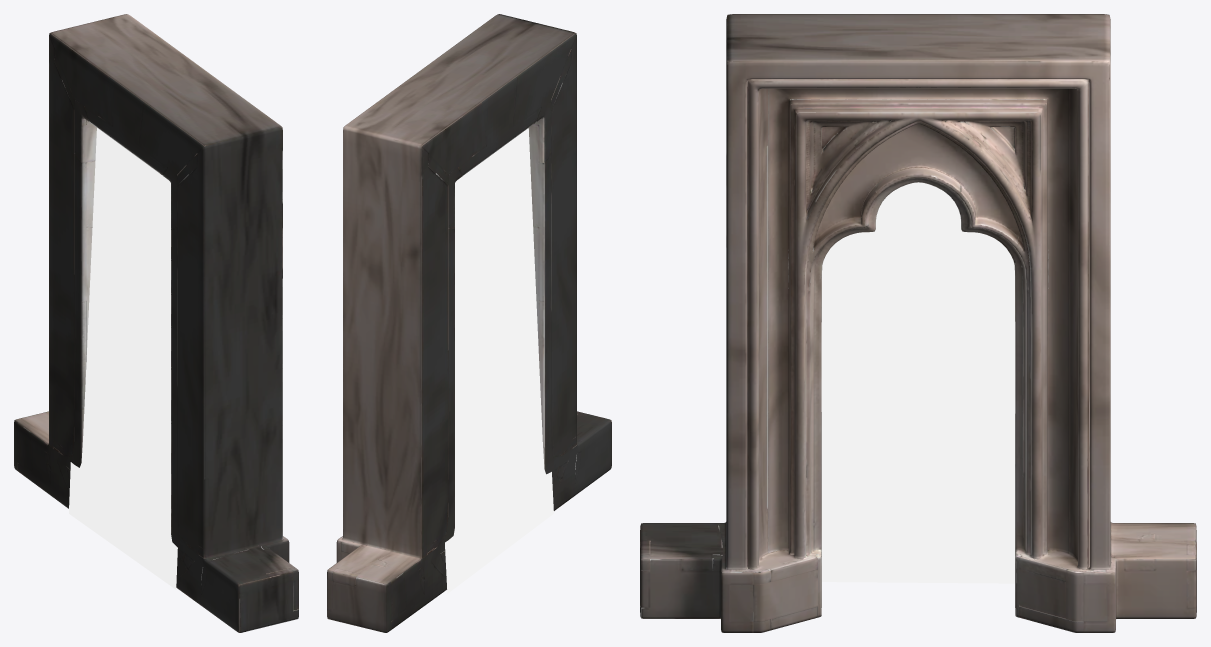
File: portal2.glb
3 views of the same model, side by side, from view 1: azimuth 30°, elevation 25°; view 2: azimuth 150°, elevation 25°; view 3: azimuth 270°, elevation 25° (orthographic). The views are drawn at different scales.
Parts seen in each view (by area): view 1: Arc_01, portalLight; view 2: Arc_01, portalLight; view 3: Arc_01, portalLight.
Boxes of the visible parts, box(x1,y1,x2,y2) form: Arc_01: box(14, 14, 298, 632); portalLight: box(69, 128, 177, 589); Arc_01: box(327, 14, 611, 632); portalLight: box(445, 128, 553, 593); Arc_01: box(640, 14, 1196, 632); portalLight: box(821, 182, 1015, 583).
Size of the model in its own units: 0.3904 by 2.01 by 1.77.
Materials: 2 (1 with a texture image).
